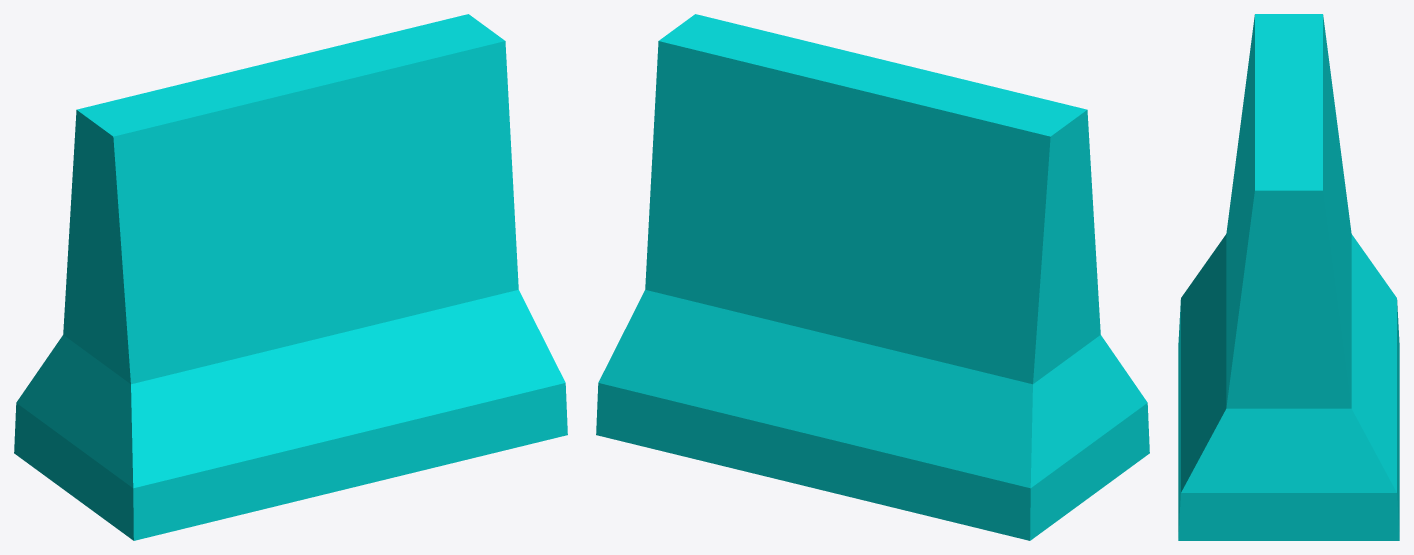
The model's file is SlabModel.fbx.
3 renders of one model, left to right at view 1: azimuth 30°, elevation 25°; view 2: azimuth 150°, elevation 25°; view 3: azimuth 270°, elevation 25°, orthographic. The views are drawn at different scales.
Parts seen in each view (by area): view 1: slab; view 2: slab; view 3: slab.
Boxes of the visible parts, x1=… form: slab: x1=14, y1=14, x2=567, y2=540; slab: x1=596, y1=14, x2=1149, y2=540; slab: x1=1178, y1=14, x2=1399, y2=540.
Bounding box in the file's own units: 80.3 × 65.22 × 38.38.
